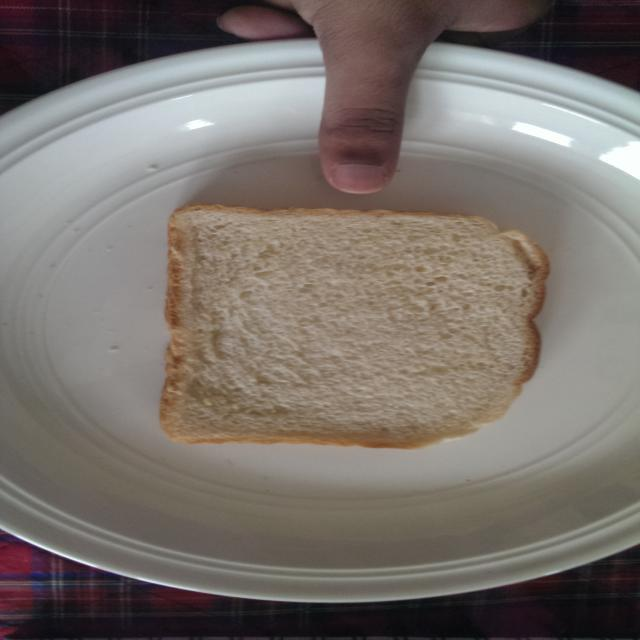Bread: (154, 198, 558, 454)
Finger: (296, 81, 426, 196)
